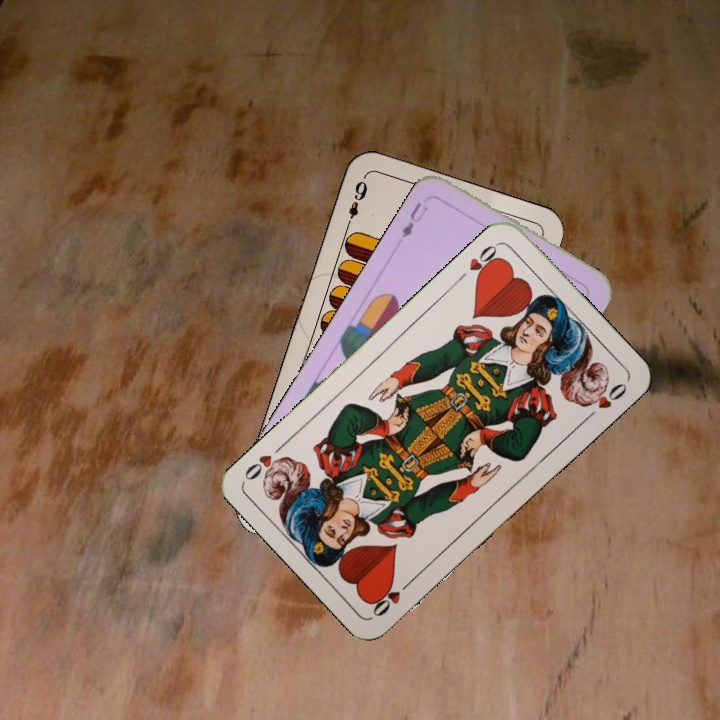E9: (342, 176, 370, 231)
EU: (398, 198, 431, 241)
HO: (453, 239, 503, 285), (368, 574, 416, 620)
